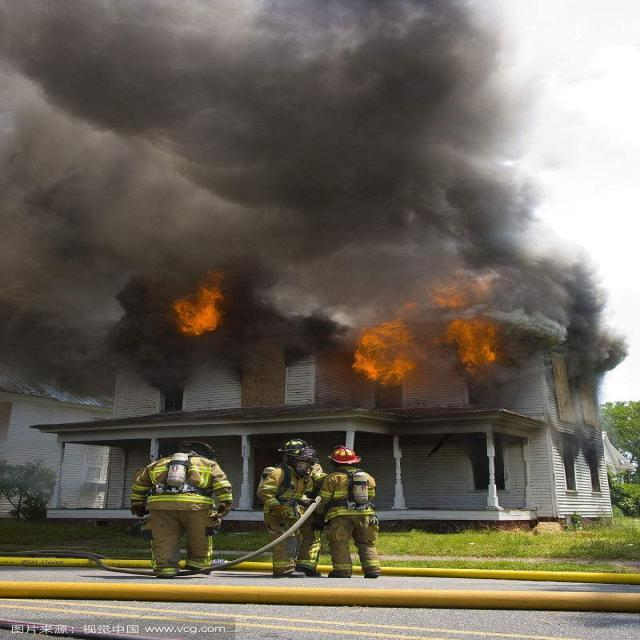Fire: (351, 274, 499, 384), (165, 265, 224, 335)
Smoke: (1, 0, 634, 398)
